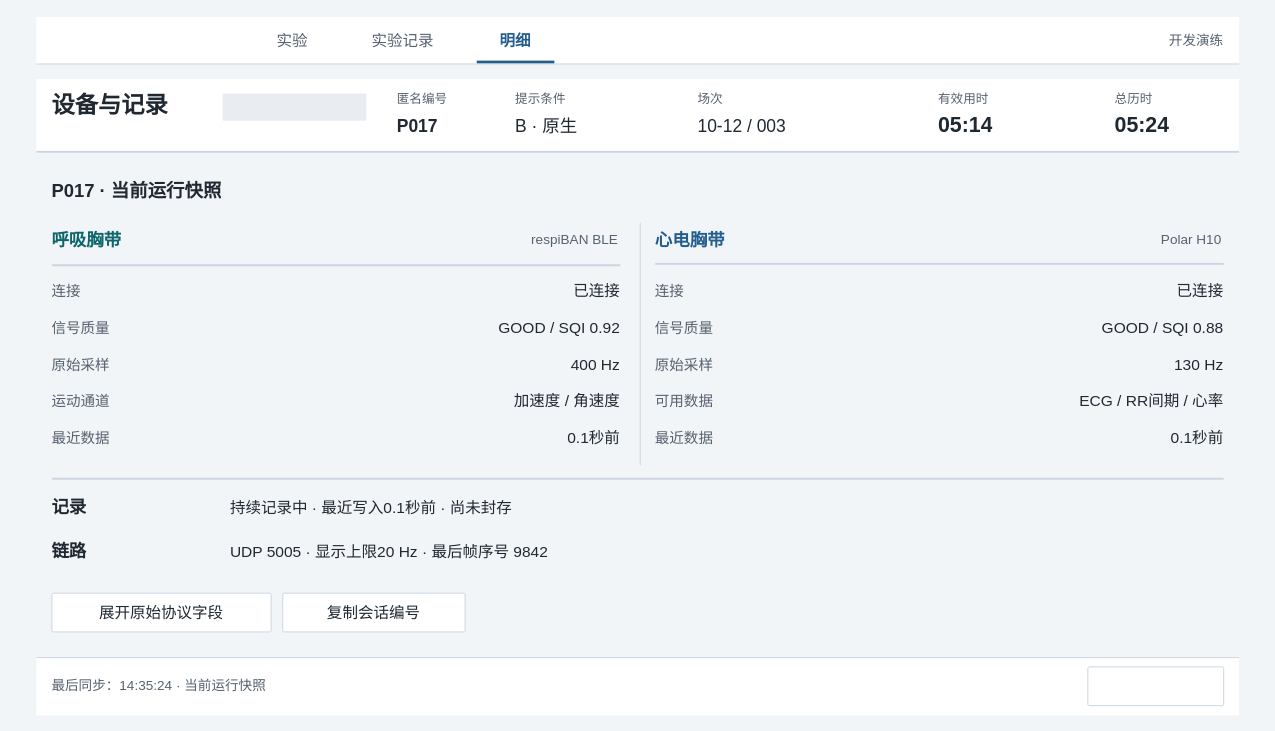
Image size: 1275x731. Some labels were removed from this diagram. The shapes that lost their labels are listed below. From the top down, each one's centre as x and y in pixels, then its label:
At point (294, 106): "只读明细".
At point (1155, 686): "返回运行".
